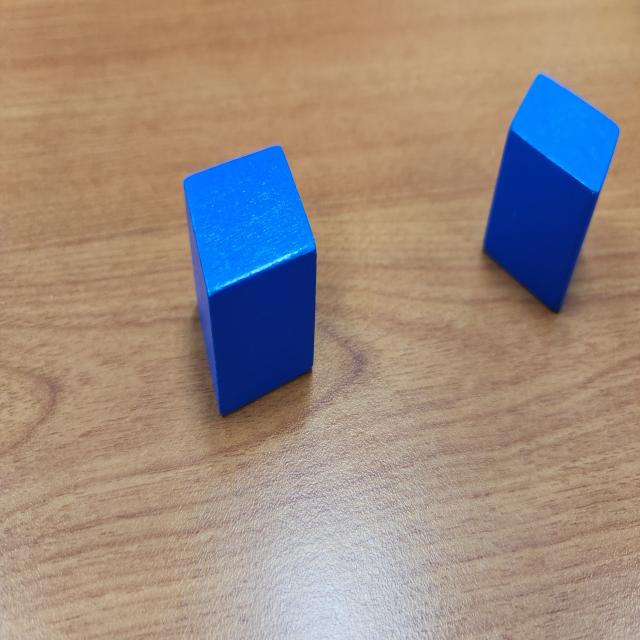blue: (182, 144, 318, 417), (482, 72, 620, 316)
